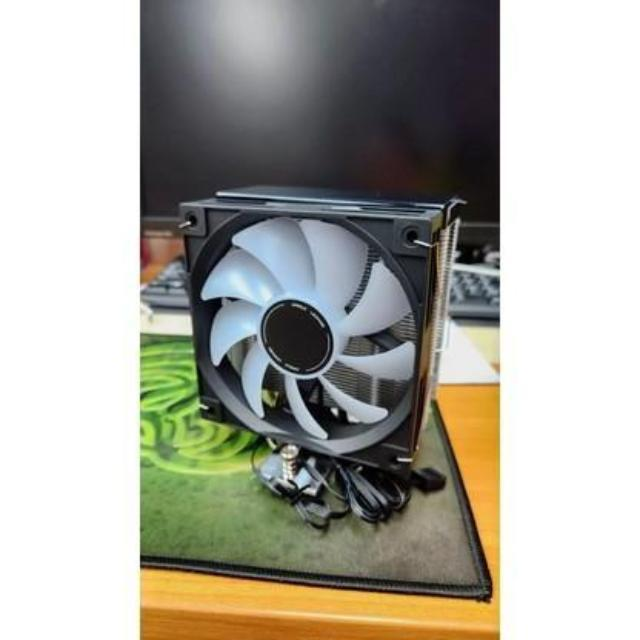CPU_Fan: (180, 182, 466, 504)
